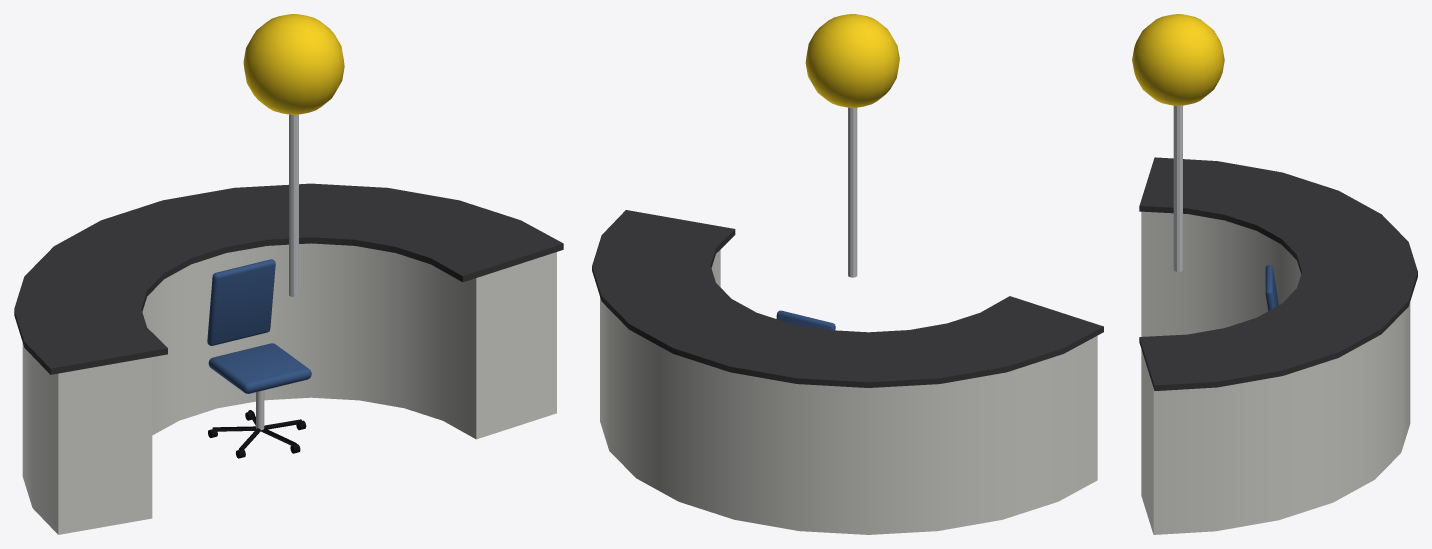
Rendered from airport.landside.info_desk.glb.
3 renders of one model, left to right at view 1: azimuth 30°, elevation 25°; view 2: azimuth 150°, elevation 25°; view 3: azimuth 270°, elevation 25°, orthographic. The views are drawn at different scales.
Parts seen in each view (by area): view 1: main__laminate_white, main__worktop, main__plastic_yellow, main__fabric_blue, main__aluminium, main__plastic_black; view 2: main__laminate_white, main__worktop, main__plastic_yellow, main__aluminium; view 3: main__laminate_white, main__worktop, main__plastic_yellow, main__aluminium, main__fabric_blue.
Boxes of the visible parts, bbox=[...] form: main__laminate_white: bbox=[22, 243, 556, 534]; main__worktop: bbox=[14, 183, 563, 374]; main__plastic_yellow: bbox=[243, 14, 344, 114]; main__fabric_blue: bbox=[207, 259, 311, 393]; main__aluminium: bbox=[289, 114, 298, 297]; main__plastic_black: bbox=[208, 410, 306, 458]; main__laminate_white: bbox=[600, 250, 1097, 534]; main__worktop: bbox=[592, 210, 1103, 387]; main__plastic_yellow: bbox=[805, 14, 899, 107]; main__aluminium: bbox=[848, 107, 857, 277]; main__laminate_white: bbox=[1141, 211, 1410, 534]; main__worktop: bbox=[1139, 157, 1417, 390]; main__plastic_yellow: bbox=[1132, 14, 1224, 105]; main__aluminium: bbox=[1173, 105, 1182, 271]; main__fabric_blue: bbox=[1265, 265, 1278, 310].
Bounding box in the file's own units: 3.49 × 2.9 × 1.85.
